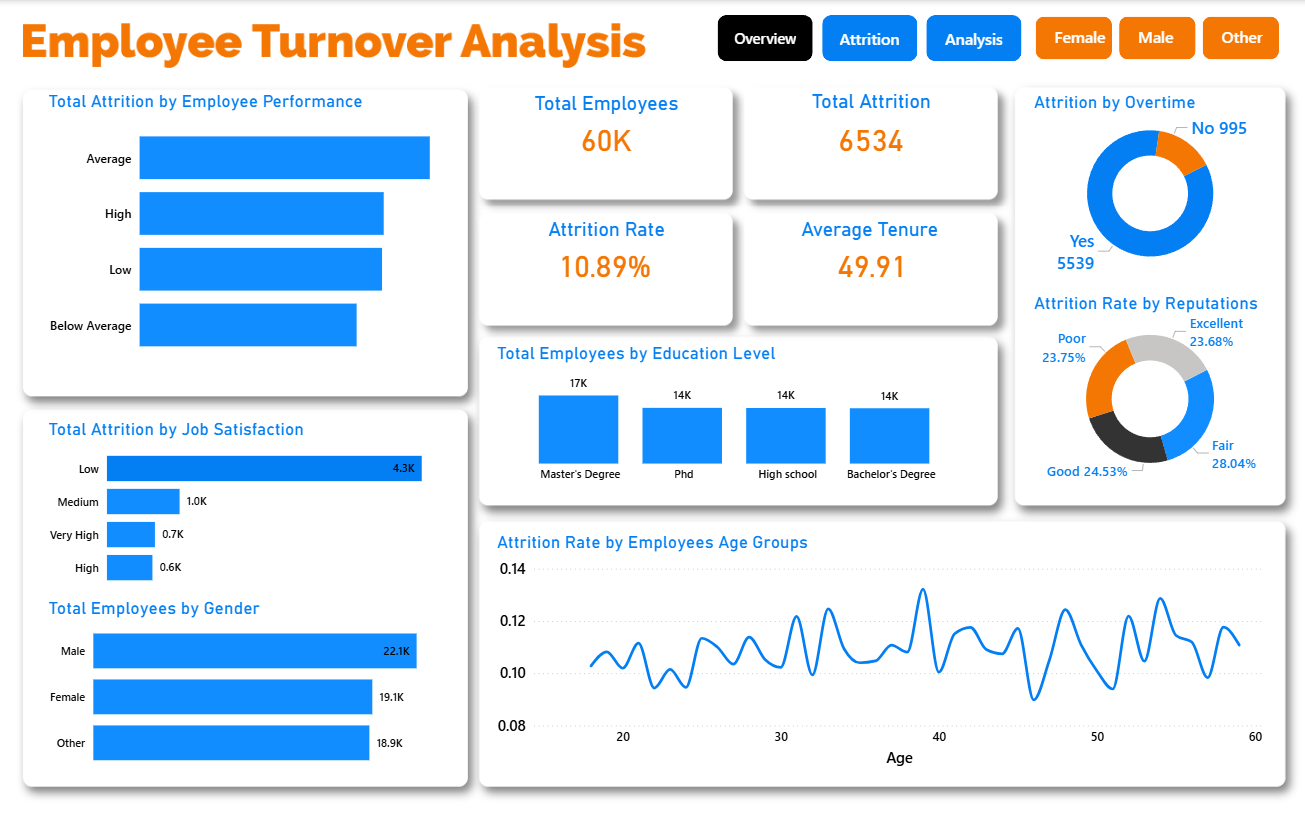

What the dashboard file says about the page in this screenshot:
{"tool":"powerbi","page":{"name":"Overview","canvas":[1440,910],"ordinal":0},"visuals":[{"type":"card","fields":{"Values":["public employee_attrition_dataset.total_employee"]},"box":[568.5,123.9,200,56.2],"z":0},{"type":"card","fields":{"Values":["public employee_attrition_dataset.total_attrition"]},"box":[861,123.9,198.3,56.2],"z":1000},{"type":"card","fields":{"Values":["public employee_attrition_dataset.attrition_rate"]},"box":[566.8,264.4,200,52.9],"z":2000},{"type":"card","fields":{"Values":["public employee_attrition_dataset.avg_tenure"]},"box":[862.6,264.4,198.3,52.9],"z":3000},{"type":"textbox","box":[550.3,95.8,238,41.3],"z":4000},{"type":"textbox","box":[851.1,94.2,219.8,41.3],"z":5000},{"type":"textbox","box":[556.9,234.7,224.8,41.3],"z":6000},{"type":"textbox","box":[839.5,234.7,239.6,41.3],"z":7000},{"type":"lineChart","fields":{"Category":["public employee_attrition_dataset.Age"],"Y":["public employee_attrition_dataset.attrition_rate"]},"box":[542.9,583.3,854.8,266],"z":8000},{"type":"donutChart","fields":{"Y":["public employee_attrition_dataset.total_attrition"],"Category":["public employee_attrition_dataset.Overtime"]},"box":[1135.1,111.3,265.2,204],"z":9000},{"type":"clusteredBarChart","fields":{"Y":["public employee_attrition_dataset.total_attrition"],"Category":["public employee_attrition_dataset.Job Satisfaction Label"]},"box":[50.1,474.8,445.1,185.5],"z":10000},{"type":"clusteredBarChart","fields":{"Category":["public employee_attrition_dataset.Performance Rating Label"],"Y":["public employee_attrition_dataset.total_attrition"]},"box":[50.1,113.1,445.1,300.5],"z":11000},{"type":"clusteredBarChart","fields":{"Category":["public employee_attrition_dataset.Gender"],"Y":["public employee_attrition_dataset.total_employee"]},"box":[50.1,664,445.1,200.3],"z":12000},{"type":"donutChart","fields":{"Y":["public employee_attrition_dataset.total_attrition"],"Category":["public employee_attrition_dataset.Reputation Label"]},"box":[1129.5,337.5,278.2,204],"z":13000},{"type":"textbox","box":[50.1,94.6,445.1,55.6],"z":14000},{"type":"textbox","box":[50.1,456.2,445.1,55.6],"z":15000},{"type":"textbox","box":[50.1,652.8,445.1,55.6],"z":16000},{"type":"textbox","box":[543.4,580.5,445.1,55.6],"z":17000},{"type":"textbox","box":[1135.1,96.4,213.3,55.6],"z":18000},{"type":"textbox","box":[1134.5,315.1,284.5,56.2],"z":19000},{"type":"textbox","box":[543.7,371.8,444.5,56.2],"z":20000},{"type":"clusteredColumnChart","fields":{"Y":["public employee_attrition_dataset.total_employee"],"Category":["public employee_attrition_dataset.Education Level"]},"box":[543.7,399.9,535.4,140.5],"z":21000},{"type":"advancedSlicerVisual","fields":{"Values":["public employee_attrition_dataset.Gender"]},"box":[1136.9,13,278.2,57.5],"z":22000},{"type":"pageNavigator","box":[791.9,16.7,337.5,51.9],"z":23000}]}

Visuals, with their boxes in screenshot pixels (x1, y1, x2, y2), scaled from the page's 1440x910 canvas onto the 1305x820 screenshot:
card - public employee_attrition_dataset.total_employee: region(515, 112, 696, 162)
card - public employee_attrition_dataset.total_attrition: region(780, 112, 960, 162)
card - public employee_attrition_dataset.attrition_rate: region(514, 238, 695, 286)
card - public employee_attrition_dataset.avg_tenure: region(782, 238, 961, 286)
textbox: region(499, 86, 714, 124)
textbox: region(771, 85, 971, 122)
textbox: region(505, 211, 708, 249)
textbox: region(761, 211, 978, 249)
lineChart - public employee_attrition_dataset.Age x public employee_attrition_dataset.attrition_rate: region(492, 526, 1267, 765)
donutChart - public employee_attrition_dataset.total_attrition x public employee_attrition_dataset.Overtime: region(1029, 100, 1269, 284)
clusteredBarChart - public employee_attrition_dataset.total_attrition x public employee_attrition_dataset.Job Satisfaction Label: region(45, 428, 449, 595)
clusteredBarChart - public employee_attrition_dataset.Performance Rating Label x public employee_attrition_dataset.total_attrition: region(45, 102, 449, 373)
clusteredBarChart - public employee_attrition_dataset.Gender x public employee_attrition_dataset.total_employee: region(45, 598, 449, 779)
donutChart - public employee_attrition_dataset.total_attrition x public employee_attrition_dataset.Reputation Label: region(1024, 304, 1276, 488)
textbox: region(45, 85, 449, 135)
textbox: region(45, 411, 449, 461)
textbox: region(45, 588, 449, 638)
textbox: region(492, 523, 896, 573)
textbox: region(1029, 87, 1222, 137)
textbox: region(1028, 284, 1286, 335)
textbox: region(493, 335, 896, 386)
clusteredColumnChart - public employee_attrition_dataset.total_employee x public employee_attrition_dataset.Education Level: region(493, 360, 978, 487)
advancedSlicerVisual - public employee_attrition_dataset.Gender: region(1030, 12, 1282, 64)
pageNavigator: region(718, 15, 1024, 62)
